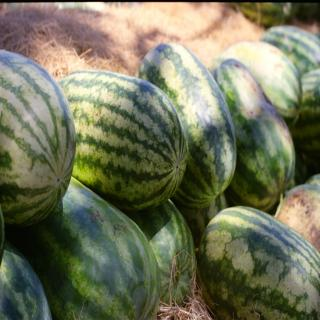Watermelon: (0, 0, 320, 320), (54, 68, 187, 212)
